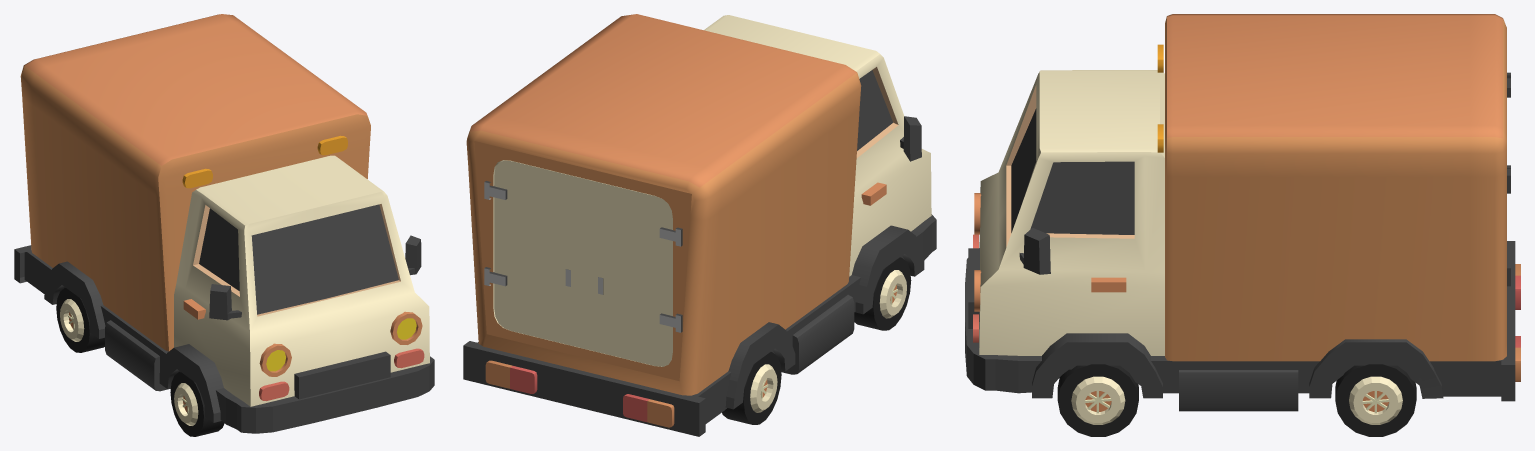
Rendered from Brown _Middle_Truck.fbx.
3 renders of one model, left to right at view 1: azimuth 30°, elevation 25°; view 2: azimuth 150°, elevation 25°; view 3: azimuth 270°, elevation 25°, orthographic. The views are drawn at different scales.
Visible parts, largest first — view 1: Brown _Middle_Truck, Brown _Middle_Truck_Wheel, Brown _Middle_Truck_Wheel2; view 2: Brown _Middle_Truck, Middle_Left_Door003, Middle_Right_Door003, Brown _Middle_Truck_Wheel, Brown _Middle_Truck_Wheel2; view 3: Brown _Middle_Truck, Brown _Middle_Truck_Wheel, Brown _Middle_Truck_Wheel2.
Boxes of the visible parts, x1,y1,x2,y2 form: Brown _Middle_Truck: [14, 14, 434, 433]; Brown _Middle_Truck_Wheel: [170, 371, 224, 436]; Brown _Middle_Truck_Wheel2: [56, 287, 104, 352]; Brown _Middle_Truck: [463, 14, 936, 436]; Middle_Left_Door003: [484, 160, 584, 348]; Middle_Right_Door003: [584, 178, 682, 366]; Brown _Middle_Truck_Wheel: [854, 257, 911, 330]; Brown _Middle_Truck_Wheel2: [722, 352, 781, 424]; Brown _Middle_Truck: [965, 14, 1520, 411]; Brown _Middle_Truck_Wheel: [1057, 364, 1138, 436]; Brown _Middle_Truck_Wheel2: [1335, 364, 1416, 436].
Size of the model in its own units: 250 by 277 by 457.
